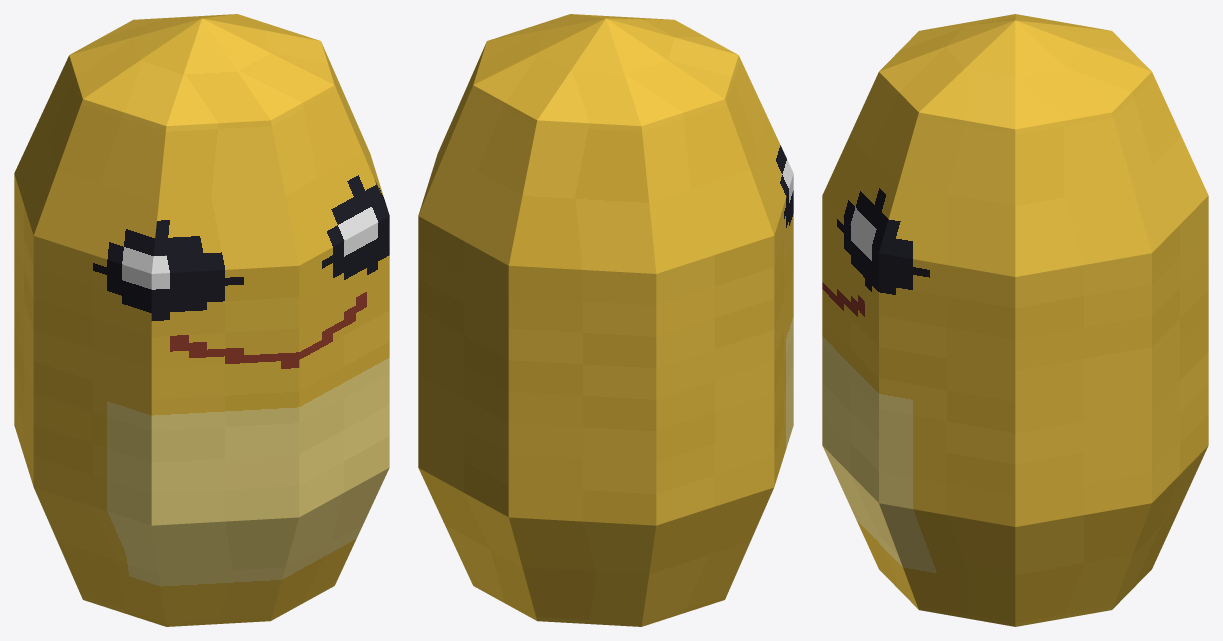
Rendered from jumper_player.glb.
3 views of the same model, side by side, from view 1: azimuth 30°, elevation 25°; view 2: azimuth 150°, elevation 25°; view 3: azimuth 270°, elevation 25° (orthographic).
Parts seen in each view (by area): view 1: jumper_player; view 2: jumper_player; view 3: jumper_player.
Part boxes in pixels (<box>): jumper_player: <box>14,14,389,626</box>; jumper_player: <box>418,14,793,626</box>; jumper_player: <box>822,14,1208,626</box>.
Size of the model in its own units: 0.7 by 1.2 by 0.7.
1 material, 1 textured.
